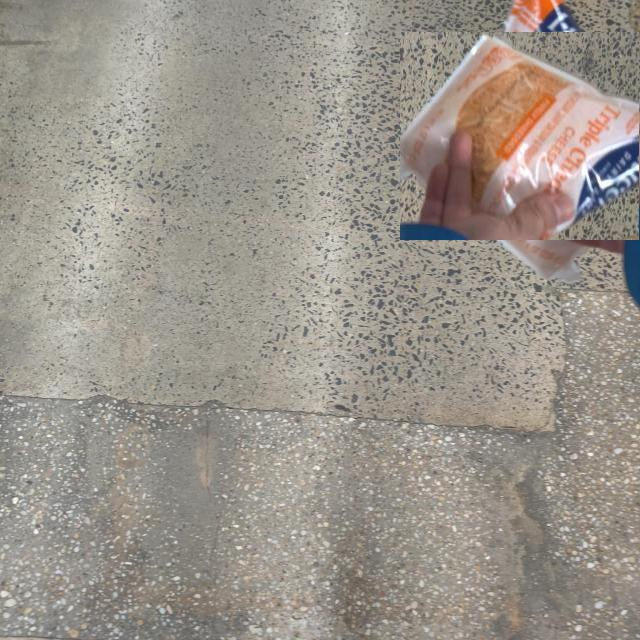Cheese: (400, 32, 640, 240)
